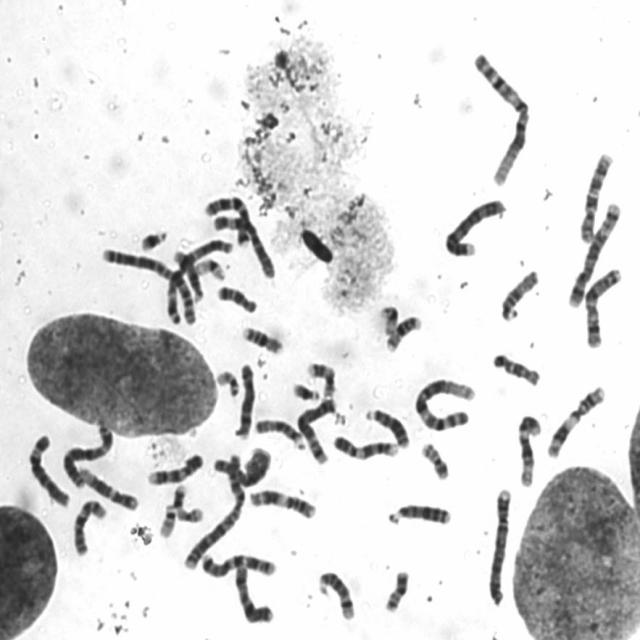A1: (470, 45, 534, 188), (411, 372, 478, 432)
A2: (179, 449, 249, 572), (97, 242, 199, 326)
A3: (164, 232, 232, 326), (58, 415, 115, 490)
B4: (441, 192, 508, 258), (483, 482, 514, 607)
B5: (565, 195, 623, 308), (293, 392, 339, 466)
C10: (576, 146, 616, 244), (68, 494, 109, 558)
C11: (543, 380, 609, 460), (245, 484, 319, 520)
C12: (77, 462, 140, 512), (513, 408, 544, 489)
C6: (208, 210, 278, 279), (24, 427, 72, 508)
C7: (200, 191, 252, 247), (197, 547, 279, 579)
C8: (208, 444, 273, 490), (232, 357, 258, 440)
C9: (143, 447, 206, 487), (330, 429, 401, 462)
D13: (361, 402, 412, 450), (384, 497, 453, 528)
D14: (314, 566, 357, 622), (169, 243, 205, 303)
D15: (496, 263, 542, 323), (251, 413, 307, 451)
E16: (382, 310, 424, 353), (238, 320, 286, 356)
E17: (170, 480, 205, 524), (303, 357, 338, 399)
E18: (488, 347, 543, 388), (213, 280, 260, 315)
F19: (190, 253, 227, 282), (375, 300, 401, 336)
F20: (416, 436, 452, 481), (381, 564, 412, 614)
G21: (136, 222, 170, 252), (288, 378, 322, 402)
G22: (212, 365, 242, 398), (154, 500, 178, 540)
X: (580, 262, 624, 350), (230, 559, 277, 625)
